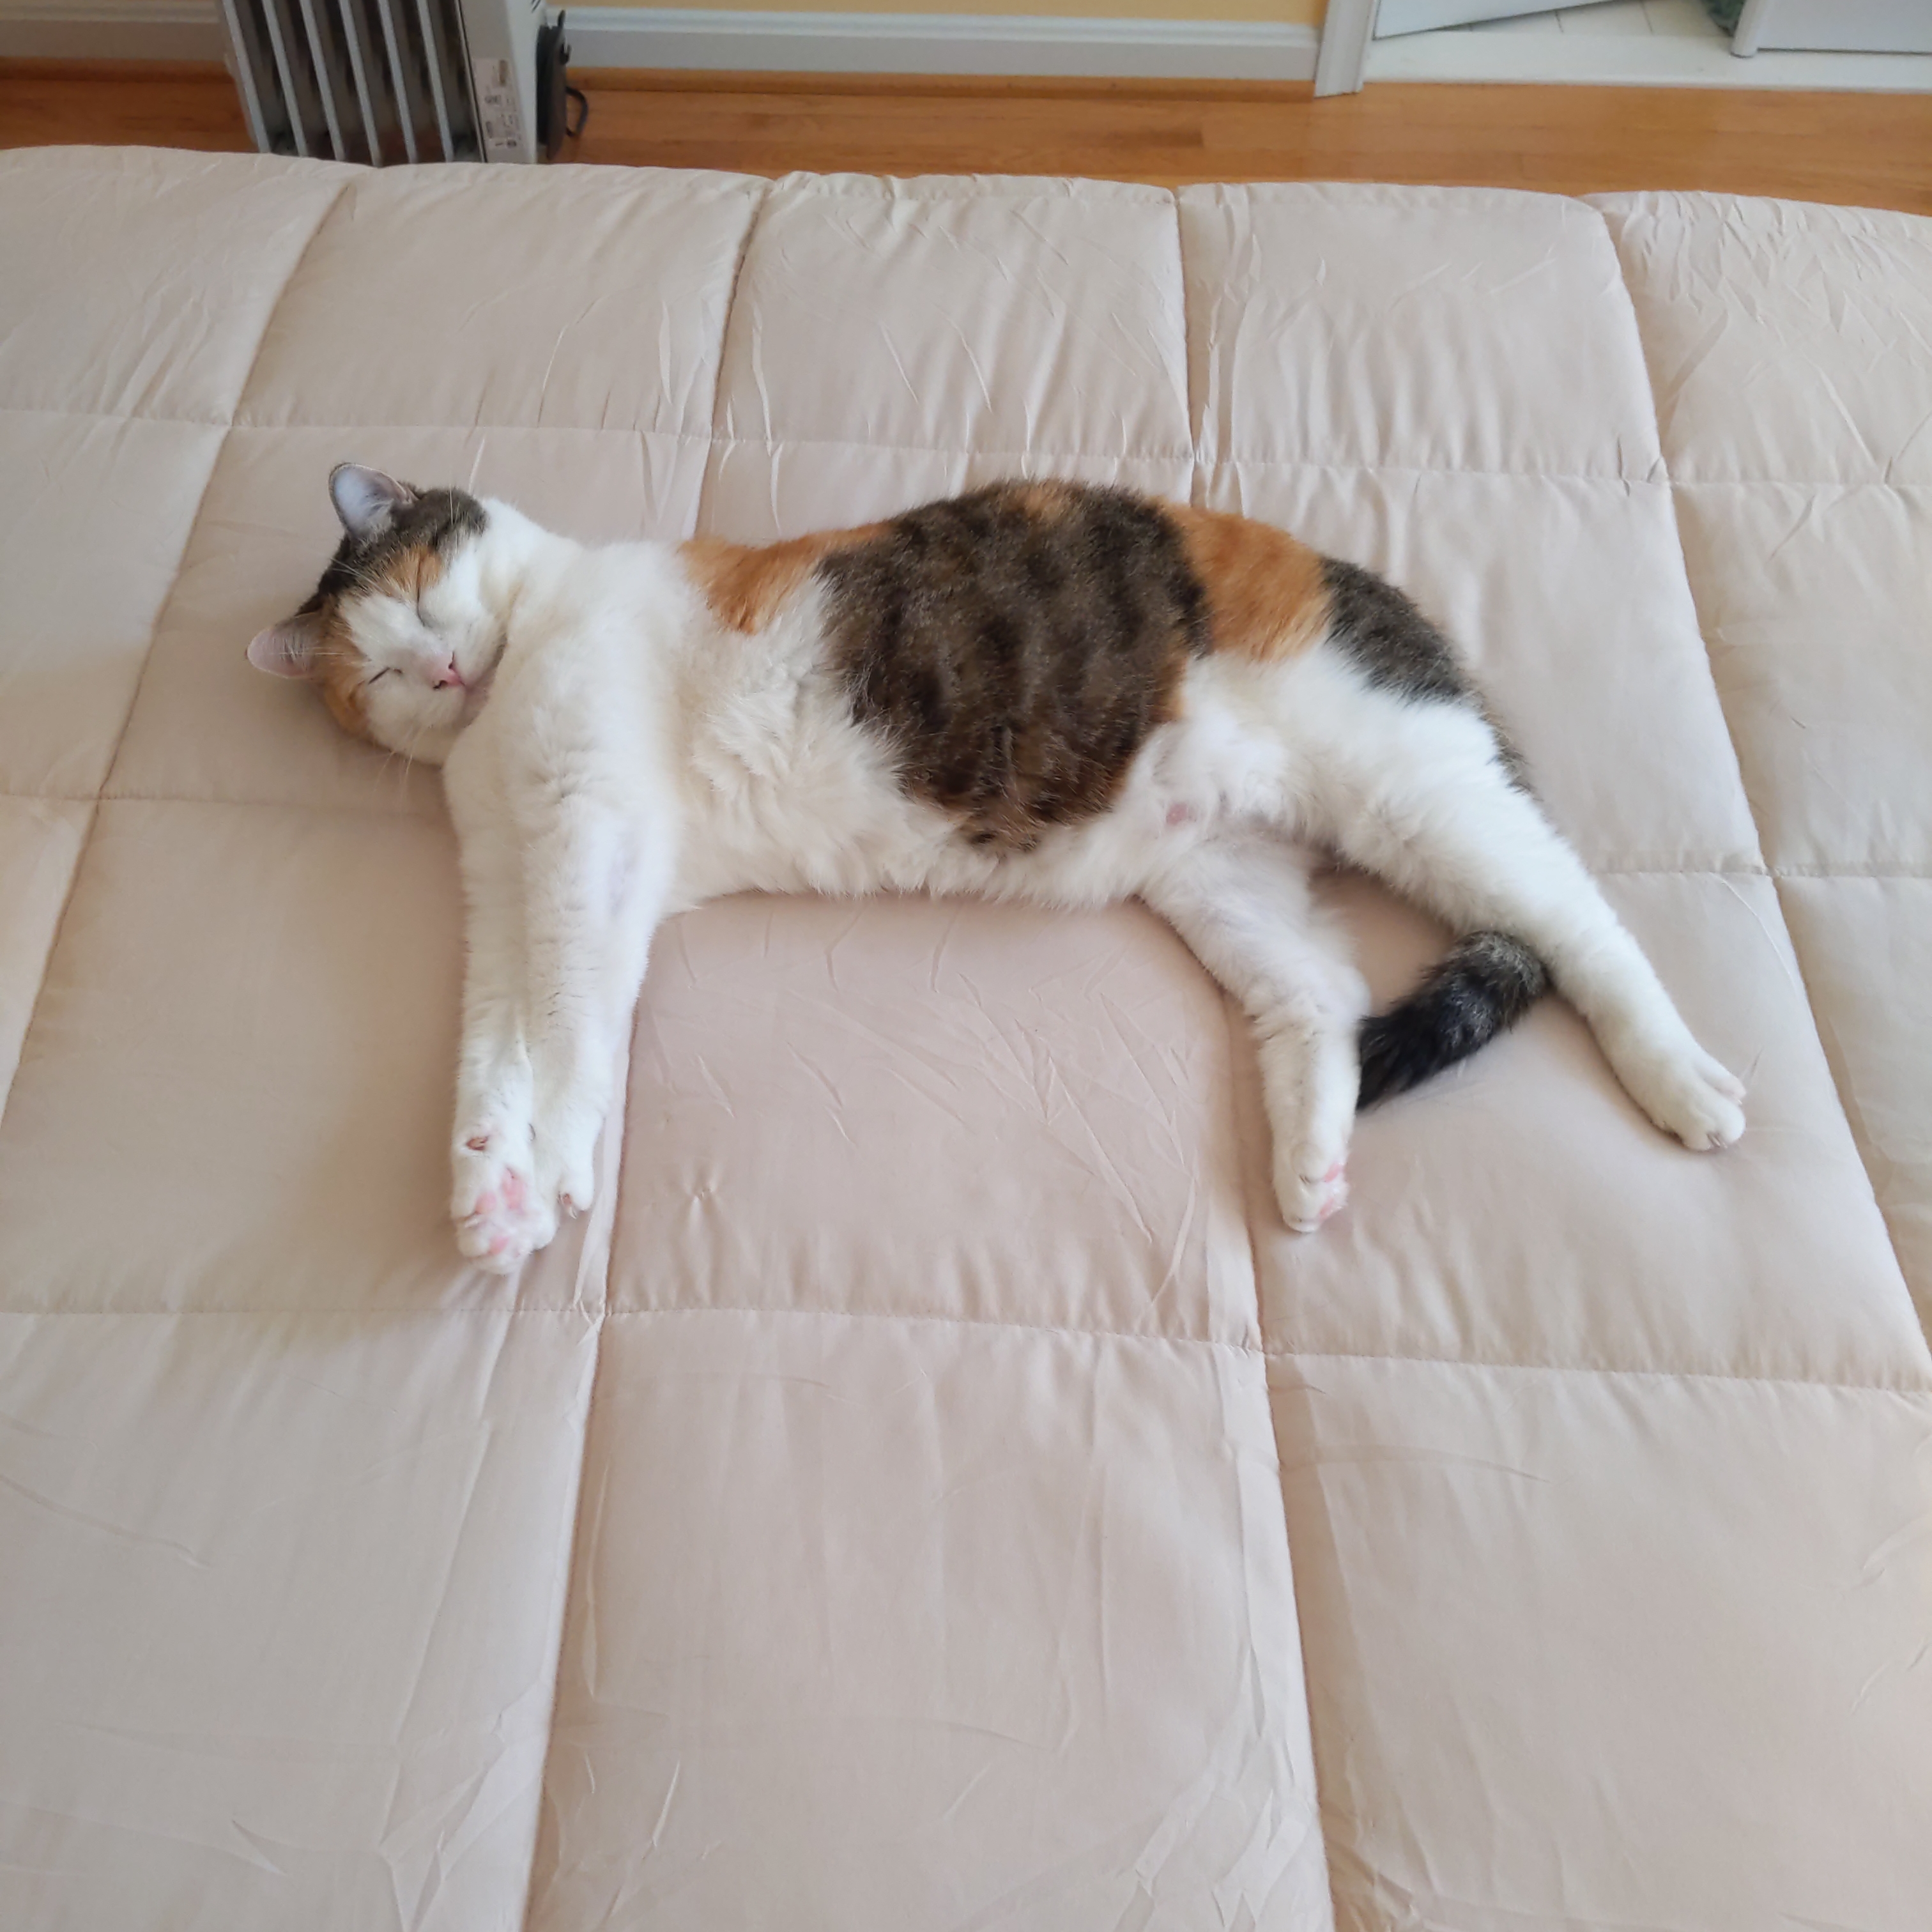Calico: (242, 460, 1748, 1276)
